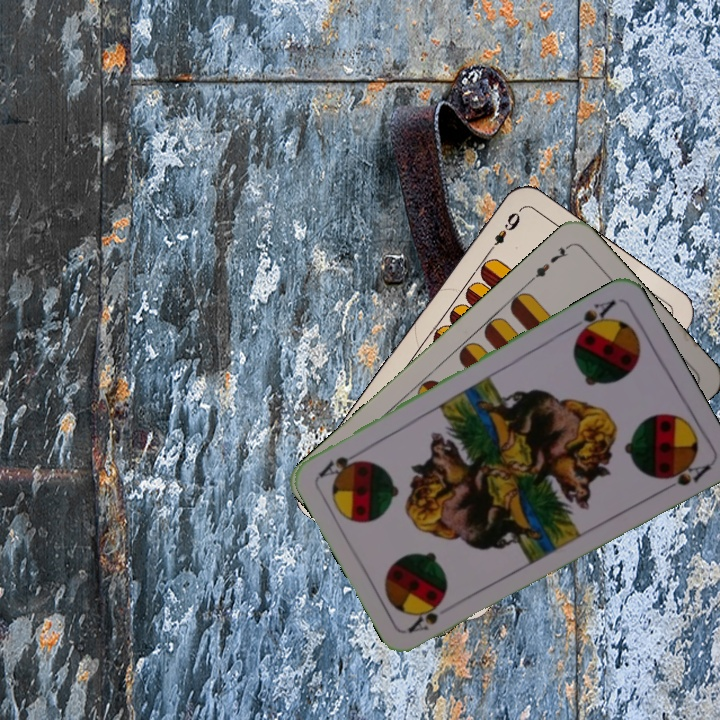E7: (525, 240, 573, 285)
E9: (483, 205, 523, 257)
SA: (566, 295, 618, 340), (404, 603, 441, 635)
